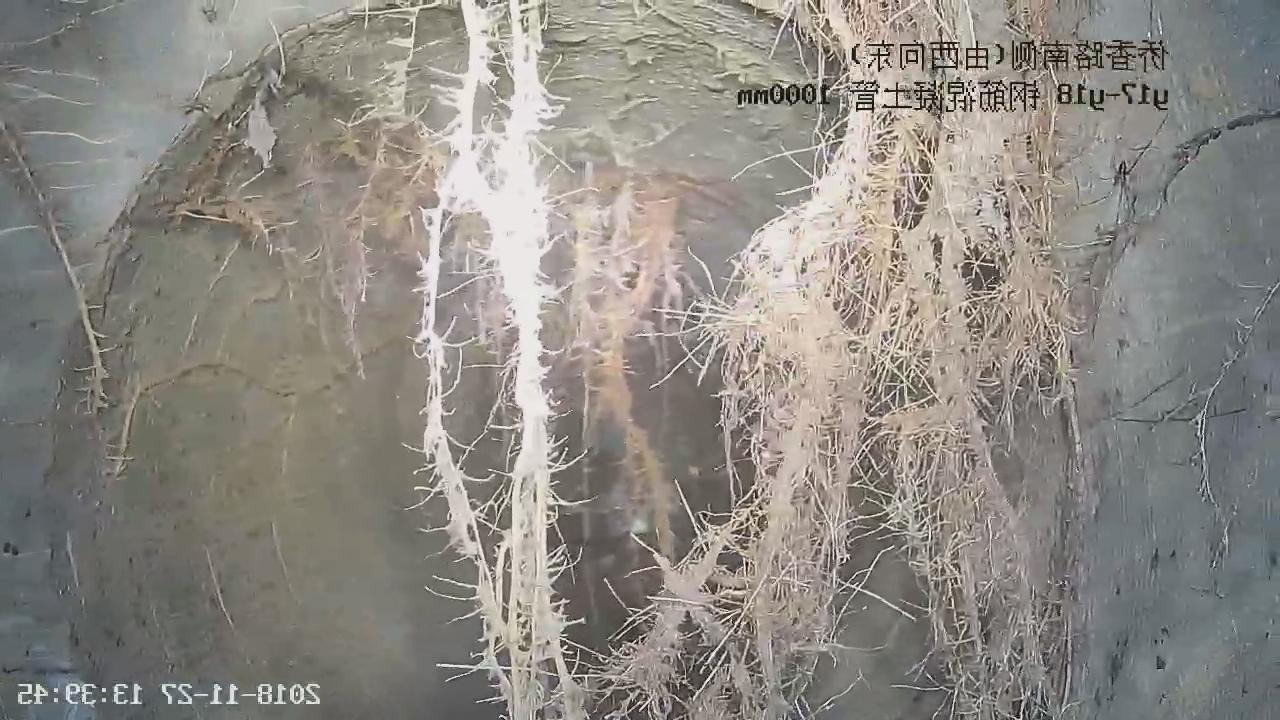SG: (102, 0, 1169, 719), (1, 125, 122, 411), (106, 373, 142, 472)
